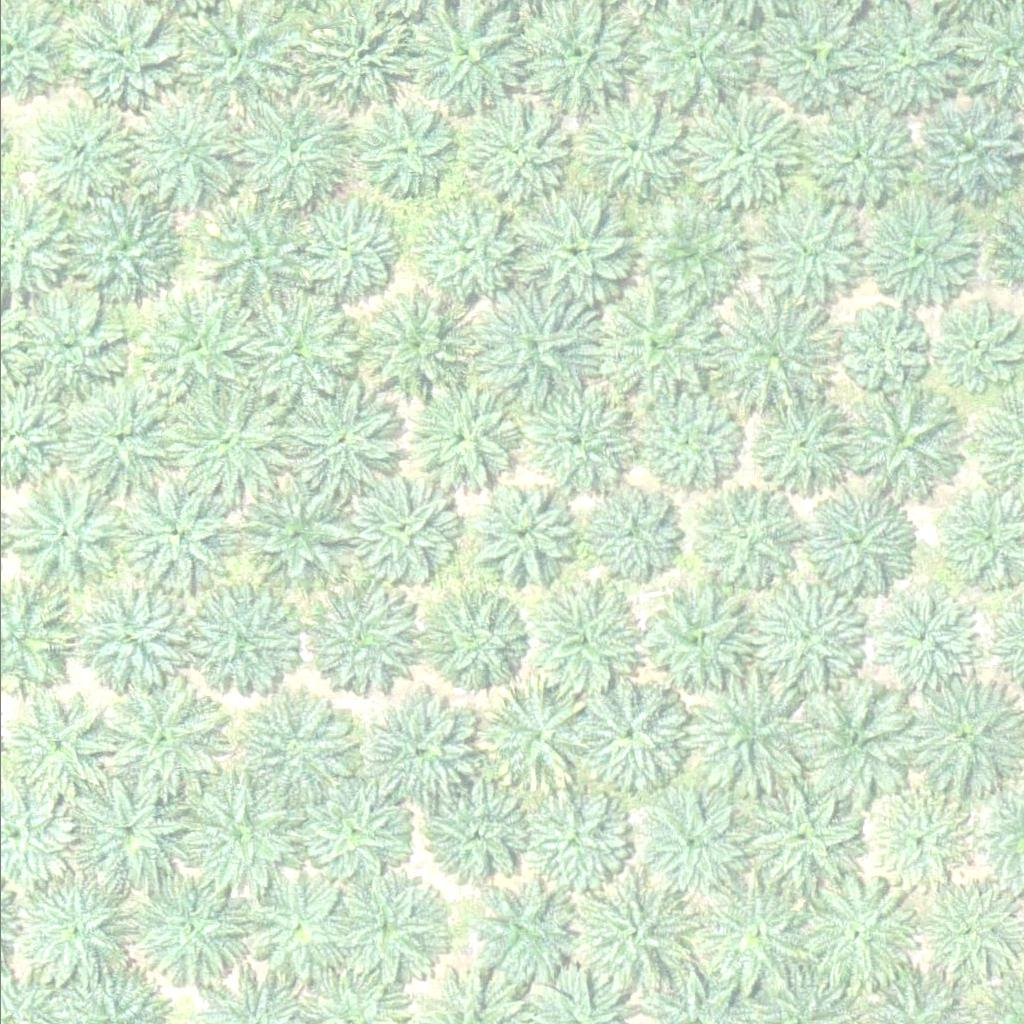Kelapa_Sawit: (564, 867, 690, 992), (692, 874, 818, 999), (789, 866, 915, 991), (732, 771, 858, 896), (560, 669, 686, 794), (681, 663, 807, 788), (785, 687, 911, 812), (633, 578, 759, 703), (463, 280, 589, 405), (709, 295, 835, 420), (500, 191, 626, 316), (324, 866, 450, 991), (288, 773, 414, 898), (302, 2, 428, 127), (112, 88, 238, 213), (222, 89, 348, 214), (59, 186, 185, 311), (1, 283, 127, 408), (164, 375, 290, 500), (60, 377, 186, 502), (296, 578, 422, 703), (178, 581, 304, 706), (96, 674, 222, 799), (228, 681, 354, 806), (356, 686, 482, 811), (165, 770, 291, 895), (62, 764, 188, 889), (3, 867, 129, 992), (124, 862, 250, 987), (464, 676, 589, 801), (522, 578, 647, 703), (279, 376, 404, 501), (117, 477, 242, 602), (229, 477, 354, 602), (66, 577, 191, 702), (862, 784, 976, 897), (575, 92, 689, 205), (452, 105, 566, 218), (459, 873, 572, 986), (633, 787, 746, 900), (519, 785, 632, 898), (844, 383, 957, 496), (636, 386, 749, 499), (679, 101, 792, 214), (407, 197, 520, 310), (243, 290, 356, 403), (288, 192, 401, 305), (190, 199, 303, 312), (866, 587, 979, 699), (744, 582, 857, 694), (798, 484, 911, 596), (515, 390, 628, 502), (598, 284, 711, 396), (856, 195, 969, 307), (744, 195, 857, 307), (364, 290, 477, 402), (402, 386, 515, 498), (430, 780, 531, 880), (430, 590, 531, 690), (470, 485, 571, 585), (577, 477, 678, 577), (694, 487, 795, 587), (749, 393, 850, 493), (825, 298, 926, 398), (643, 199, 744, 299), (912, 91, 1013, 191), (805, 118, 906, 218), (350, 100, 451, 200), (149, 298, 250, 398), (347, 480, 448, 580), (3, 697, 104, 797), (18, 110, 118, 210), (242, 878, 342, 978)
